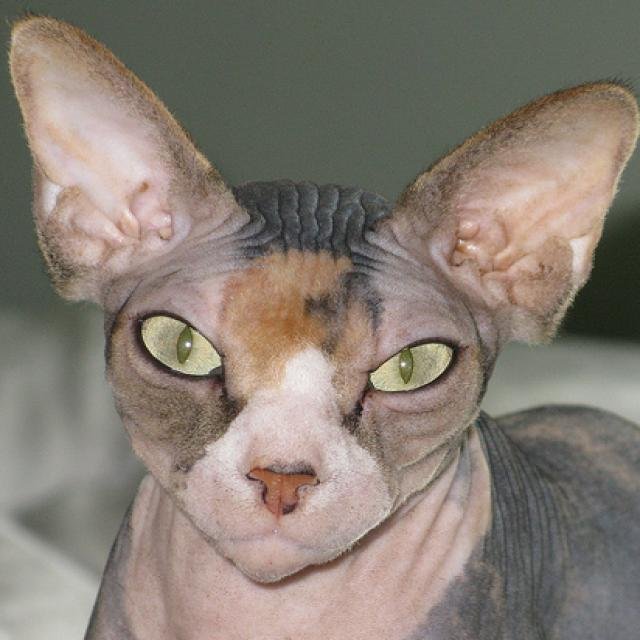Sphynx: (4, 8, 640, 640)
